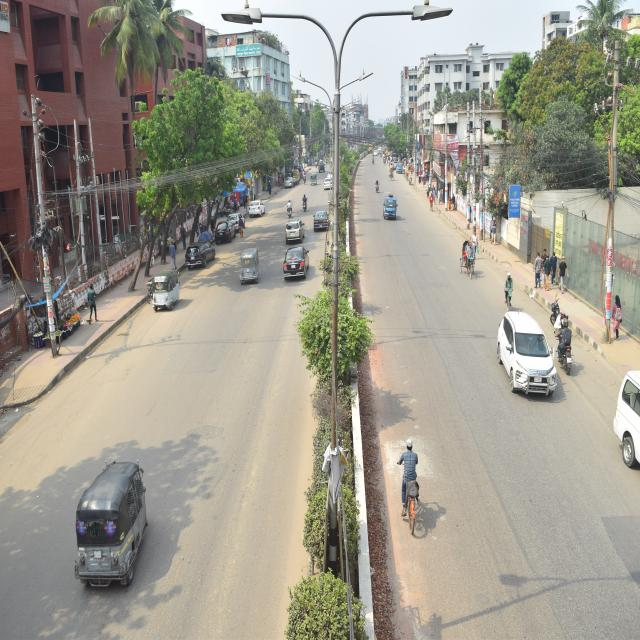car: (492, 300, 556, 403), (613, 350, 640, 504), (180, 233, 218, 271), (280, 244, 313, 284), (278, 219, 309, 245), (243, 194, 269, 220), (215, 218, 238, 246), (313, 206, 333, 237), (227, 210, 245, 228)
motorbike: (550, 320, 581, 375), (550, 298, 564, 325), (299, 195, 309, 212), (373, 178, 381, 192), (286, 205, 294, 218)
pickup-van: (381, 187, 402, 226)
